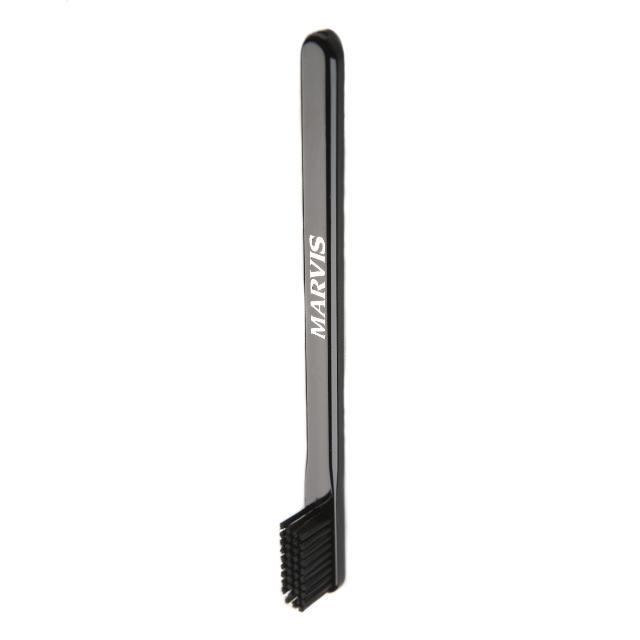toothbrush: (228, 9, 408, 616)
